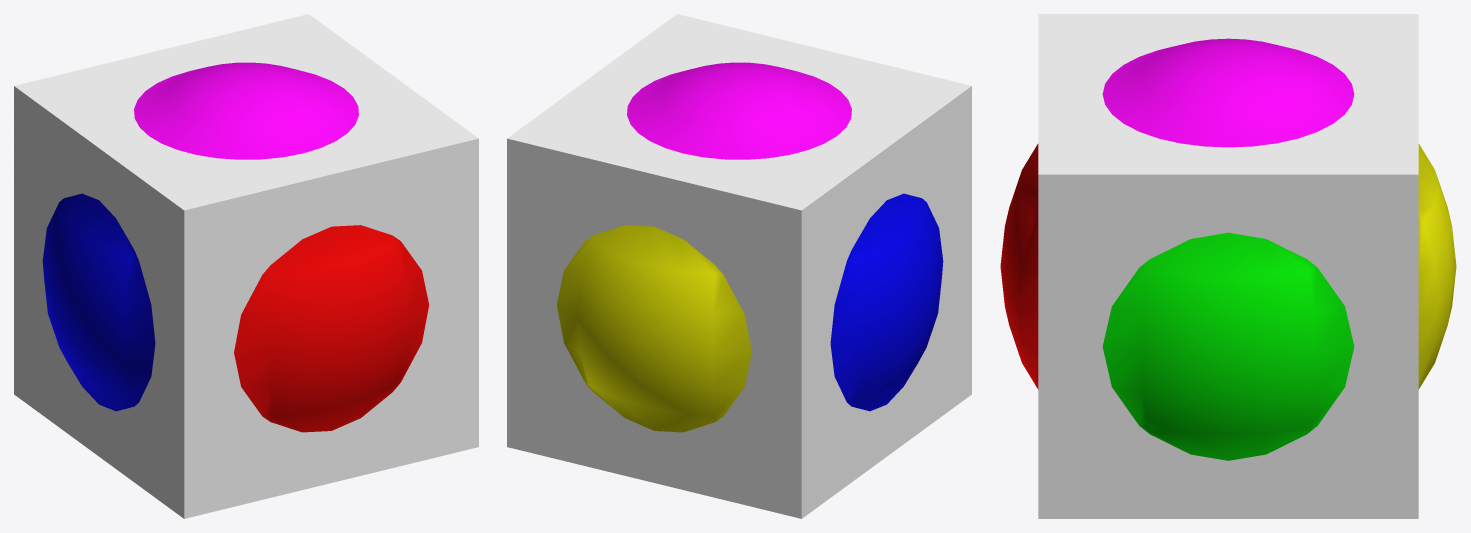
File: box_with_domes.fbx
3 views of the same model, side by side, from view 1: azimuth 30°, elevation 25°; view 2: azimuth 150°, elevation 25°; view 3: azimuth 270°, elevation 25° (orthographic). The views are drawn at different scales.
Parts seen in each view (by area): view 1: box_and_domes; view 2: box_and_domes; view 3: box_and_domes.
Part boxes in pixels (x1=…): box_and_domes: x1=14, y1=14, x2=478, y2=518; box_and_domes: x1=507, y1=14, x2=971, y2=518; box_and_domes: x1=1000, y1=14, x2=1456, y2=518.
Size of the model in its own units: 240 by 240 by 240.
